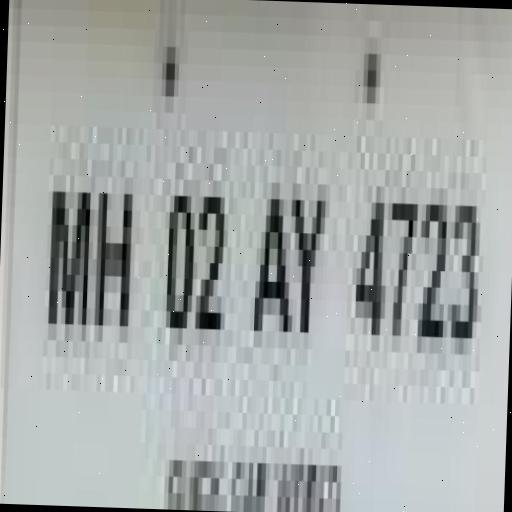number plate: (30, 9, 508, 504)
